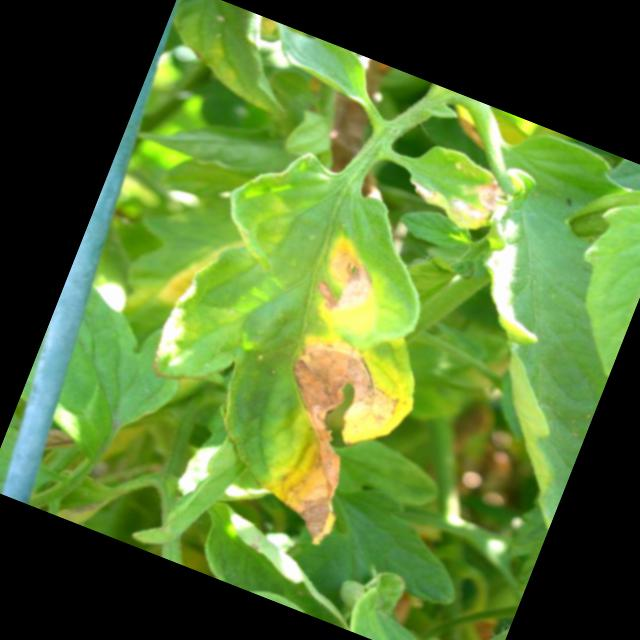Early_blight: (227, 319, 426, 559), (399, 148, 507, 238), (302, 227, 389, 324)
